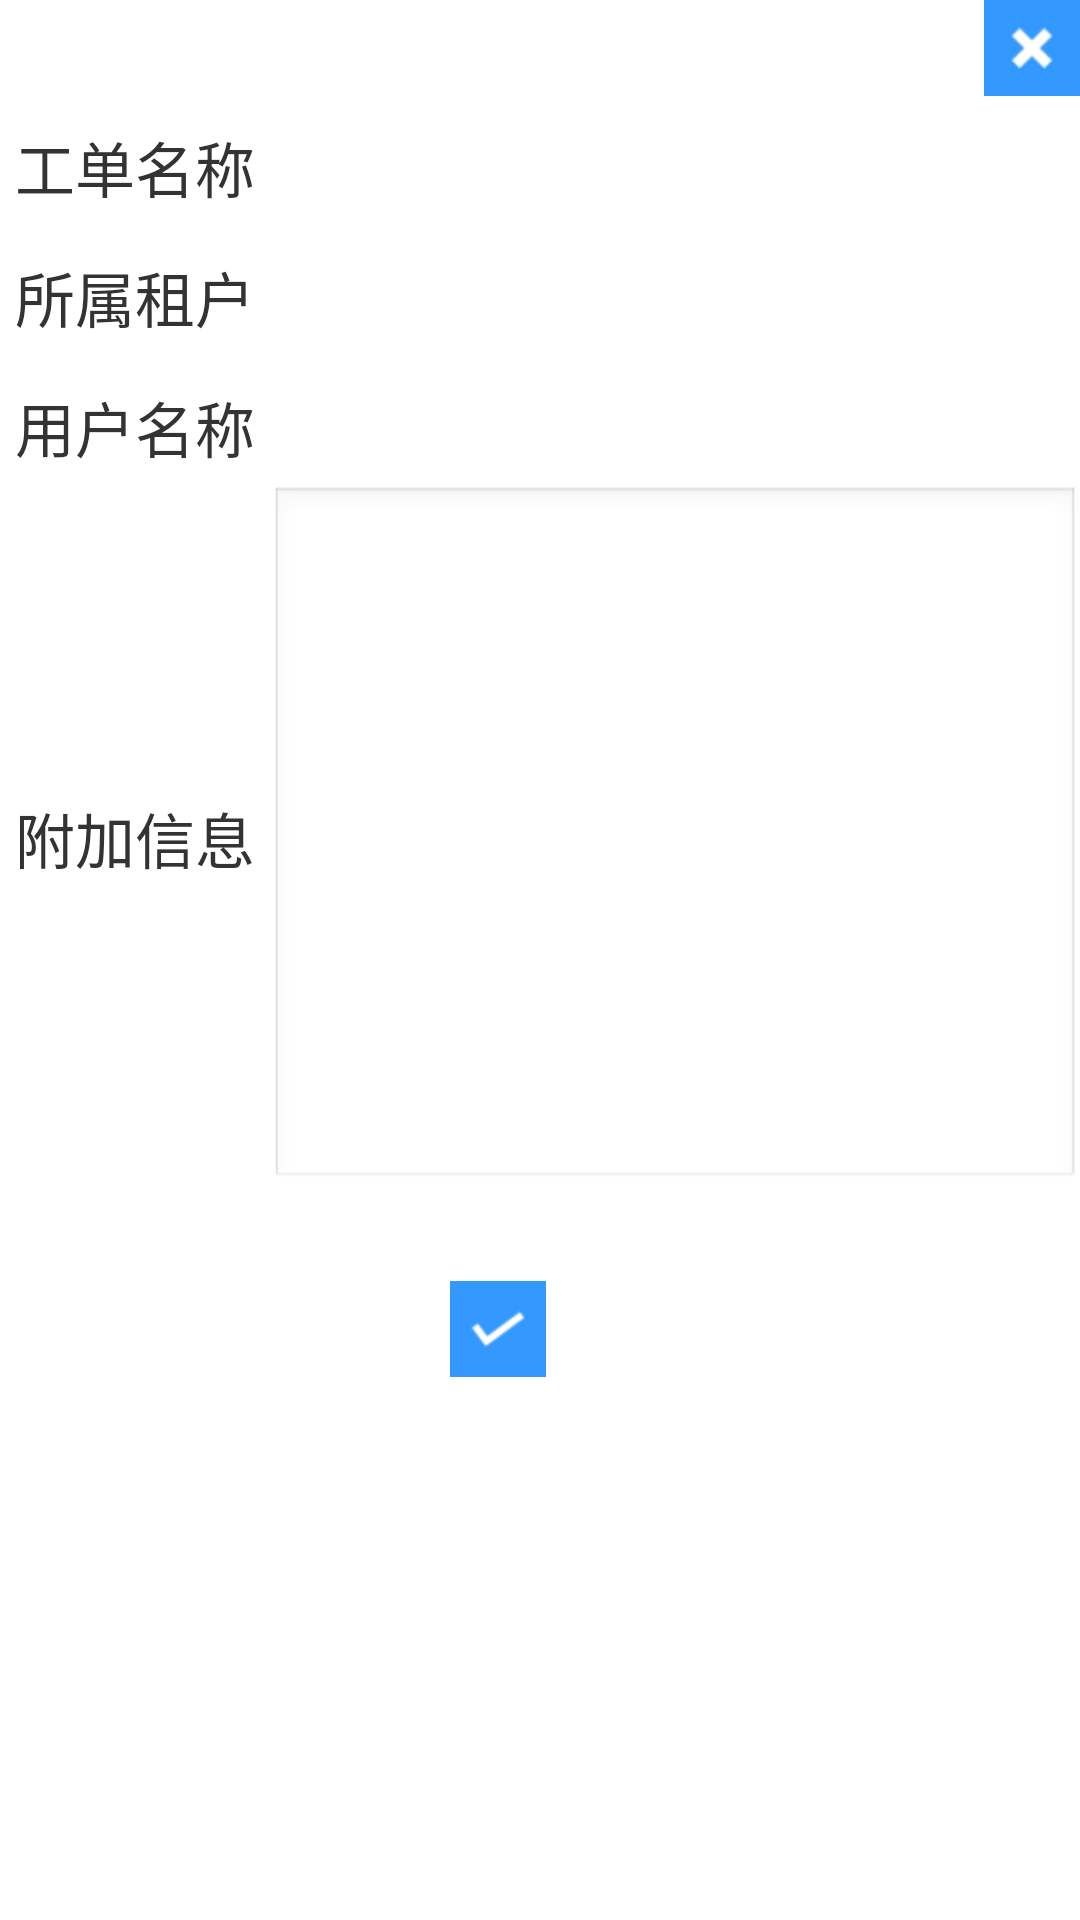

Locate icon controls on the screen. Image size 1080px x 1920px, boxes as (x1, y1, x2, y2).
cancel order: (984, 0, 1080, 96)
handle order: (450, 1281, 546, 1377)
